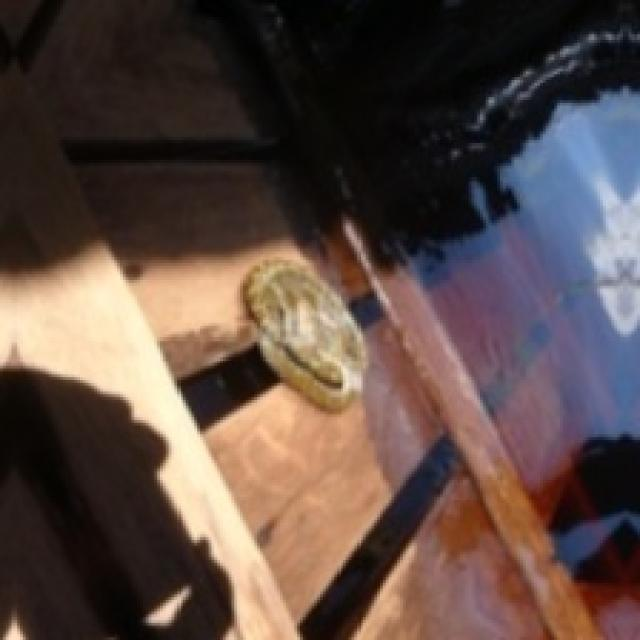reticulated python: (243, 260, 366, 409)
